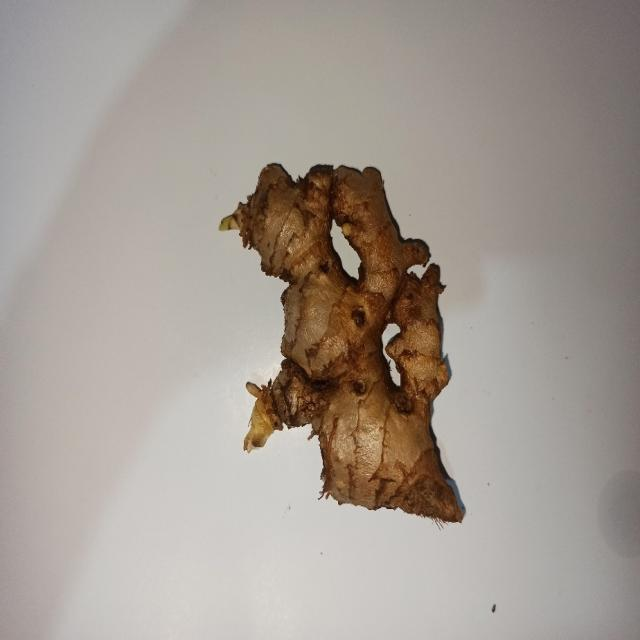ginger: (224, 157, 466, 527)
